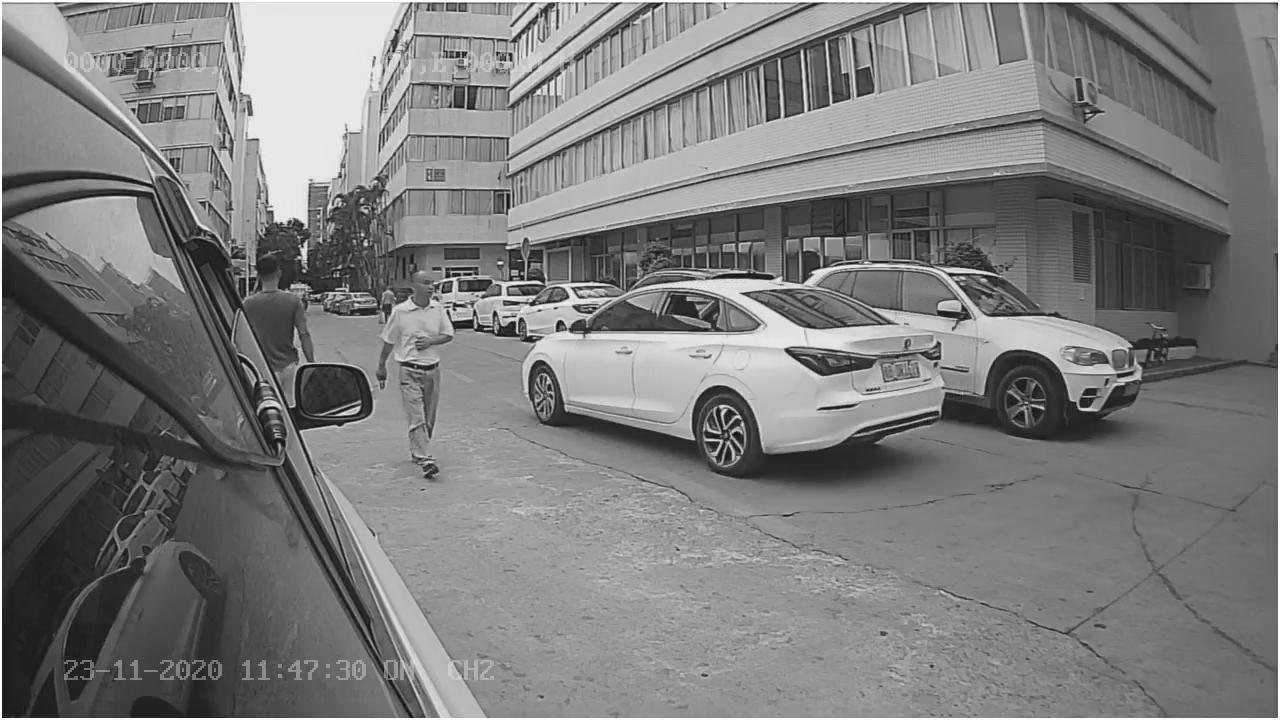person: (375, 244, 466, 486)
